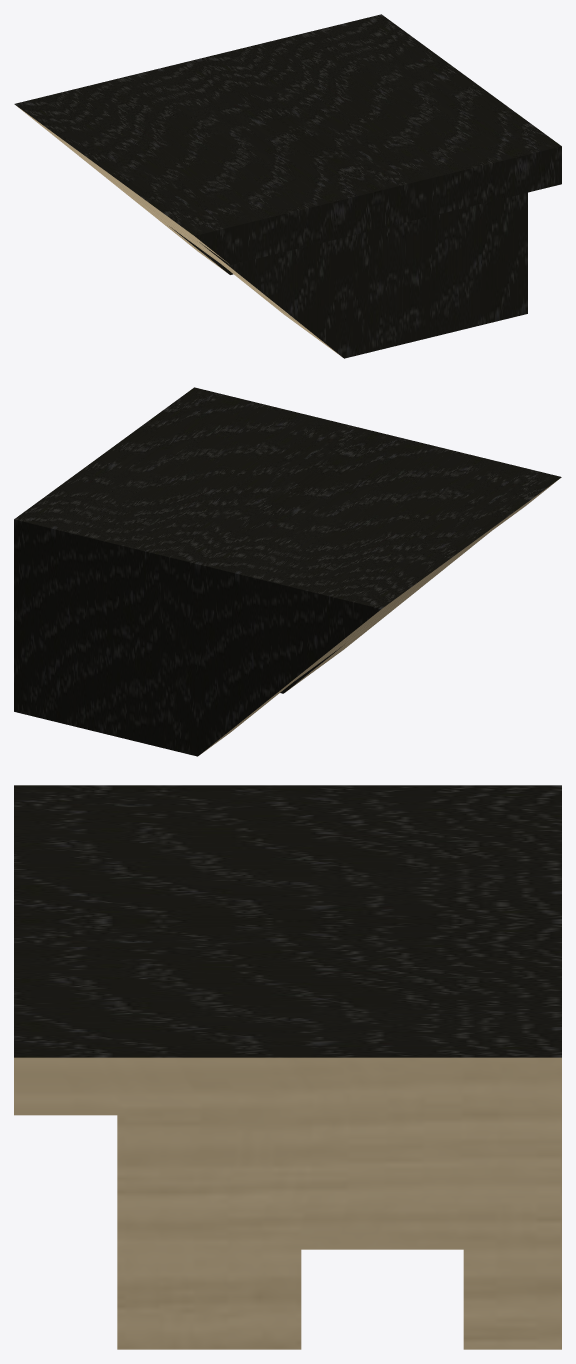
3 views of the same model, one above another, from view 1: azimuth 30°, elevation 25°; view 2: azimuth 150°, elevation 25°; view 3: azimuth 270°, elevation 25° (orthographic). The views are drawn at different scales.
Parts seen in each view (by area): view 1: middle, first; view 2: middle, first; view 3: middle, first.
Boxes of the visible parts, left/top/right/bottom form: middle: left=198, top=14, right=561, bottom=358; first: left=14, top=59, right=378, bottom=358; middle: left=14, top=387, right=377, bottom=756; first: left=197, top=432, right=561, bottom=756; middle: left=14, top=921, right=561, bottom=1349; first: left=14, top=785, right=561, bottom=921.
Bounding box in the file's own units: 0.04 × 0.02 × 0.034.
Materials: 2 (2 with a texture image).
